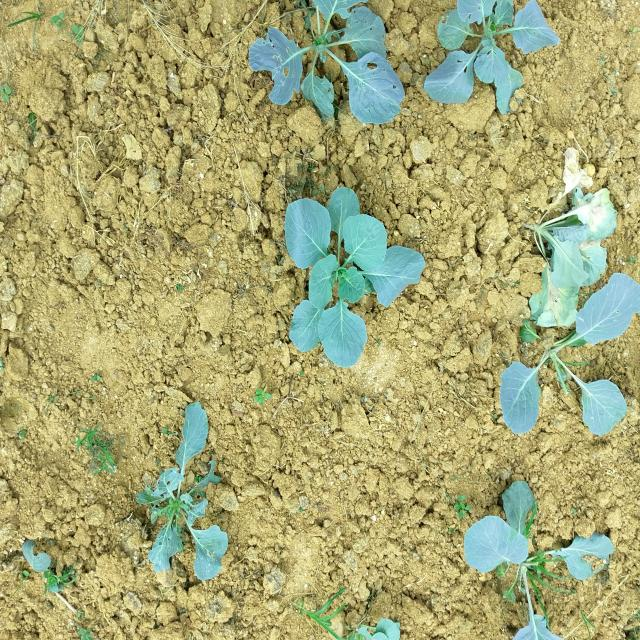Cabbage: (459, 204, 640, 469), (274, 182, 424, 377), (452, 481, 618, 638), (250, 0, 400, 141), (134, 390, 232, 590), (428, 0, 563, 126), (300, 582, 423, 640), (484, 615, 581, 640)
